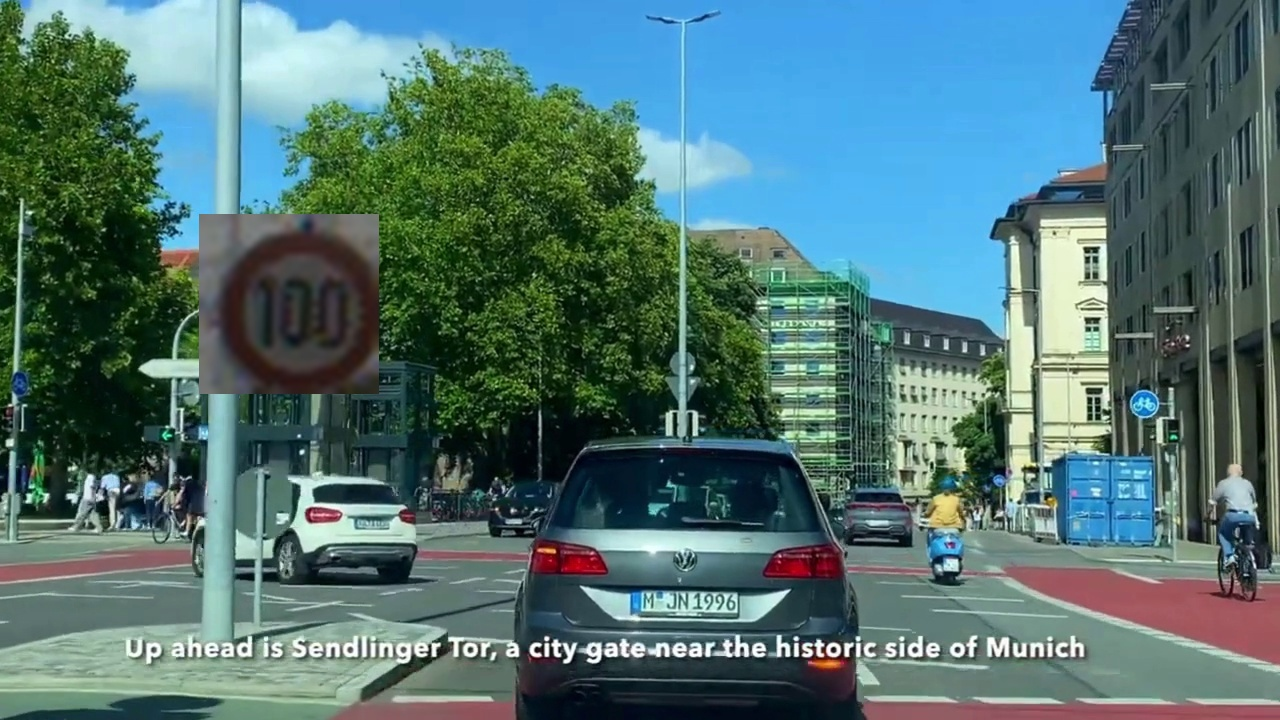Speed 100: (199, 214, 379, 394)
